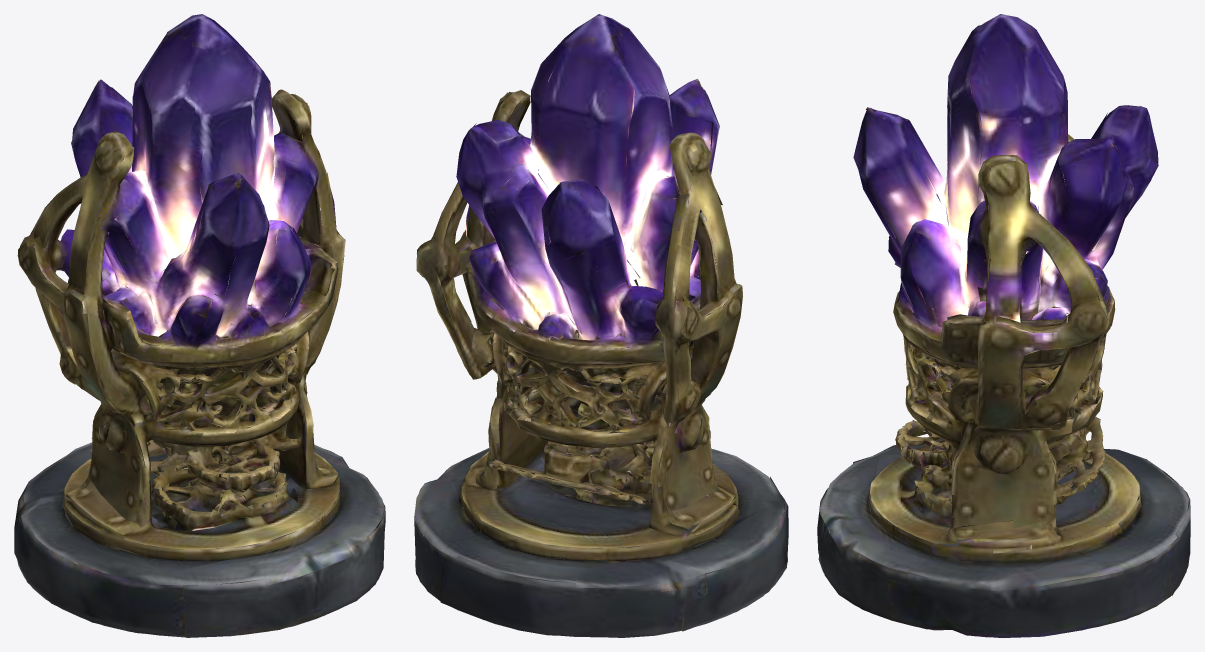
Rendered from spark_crystal_cluster_01.glb.
3 renders of one model, left to right at view 1: azimuth 30°, elevation 25°; view 2: azimuth 150°, elevation 25°; view 3: azimuth 270°, elevation 25°, orthographic.
Visible parts, largest first — view 1: spark_crystal_cluster_01_mesh_01; view 2: spark_crystal_cluster_01_mesh_01; view 3: spark_crystal_cluster_01_mesh_01.
Boxes of the visible parts, box(x1,y1,x2,y2) form: spark_crystal_cluster_01_mesh_01: box(14, 14, 385, 637); spark_crystal_cluster_01_mesh_01: box(414, 14, 788, 637); spark_crystal_cluster_01_mesh_01: box(817, 14, 1190, 637).
Size of the model in its own units: 1.18 by 1.9 by 1.18.
Materials: 1 (1 with a texture image).
